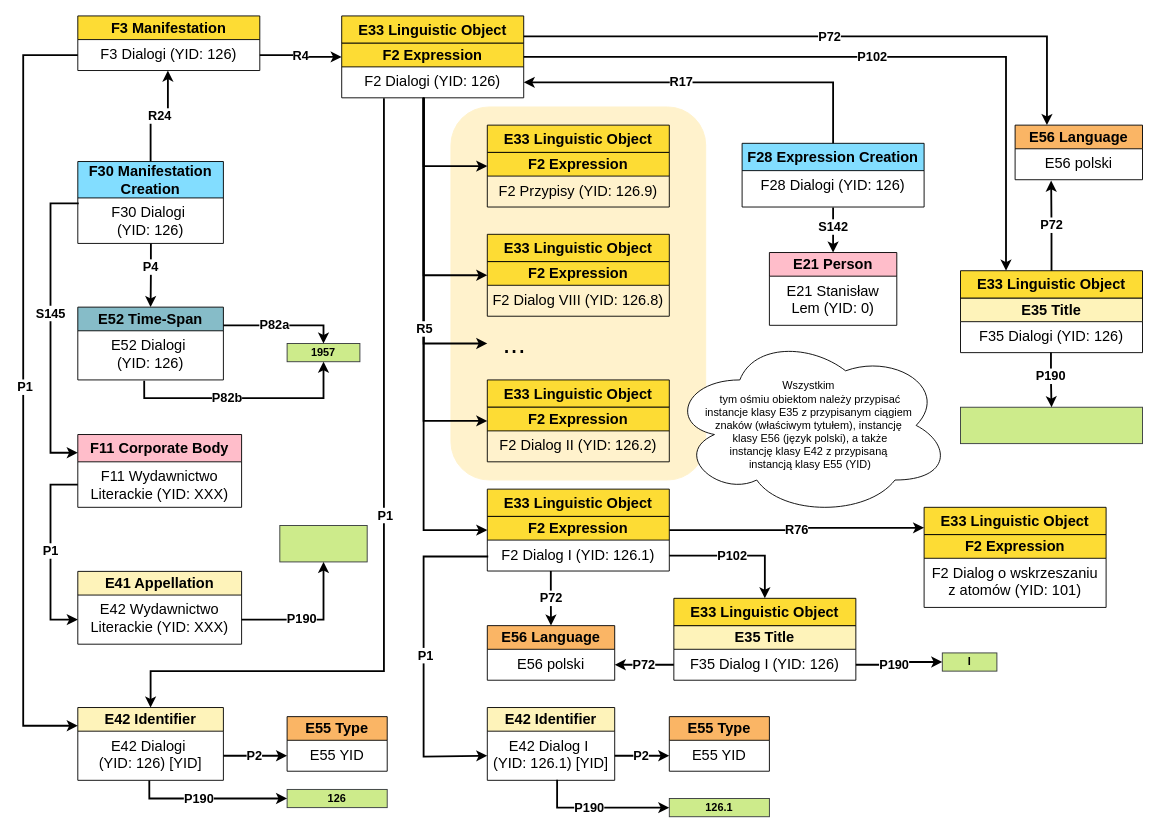
The diagram is 1158 pixels wide and 833 high, and some of its shapes have lost their labels. The shapes that lost their labels are listed below. From the top down, each one's centre as x and y in pixels, then its label:
point 1051,425: Dialogi o zmartwychwstaniu atomowym...
point 323,543: Wydawnictwo Literackie
